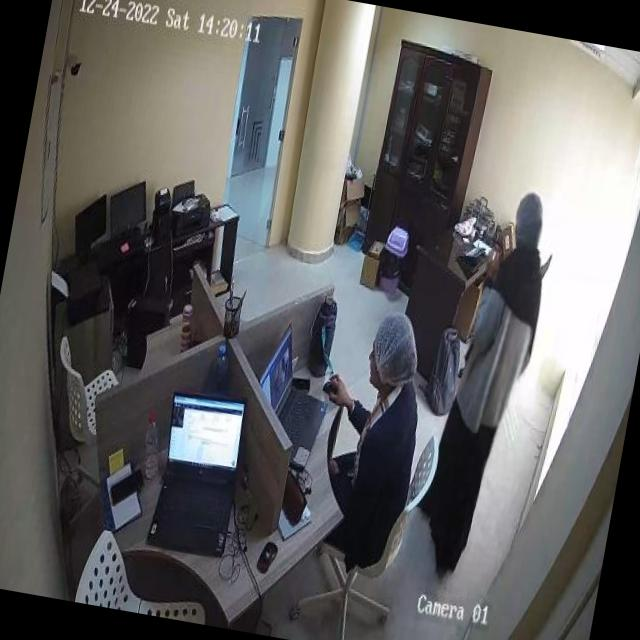hairnet: (366, 311, 424, 390), (511, 185, 554, 256)
